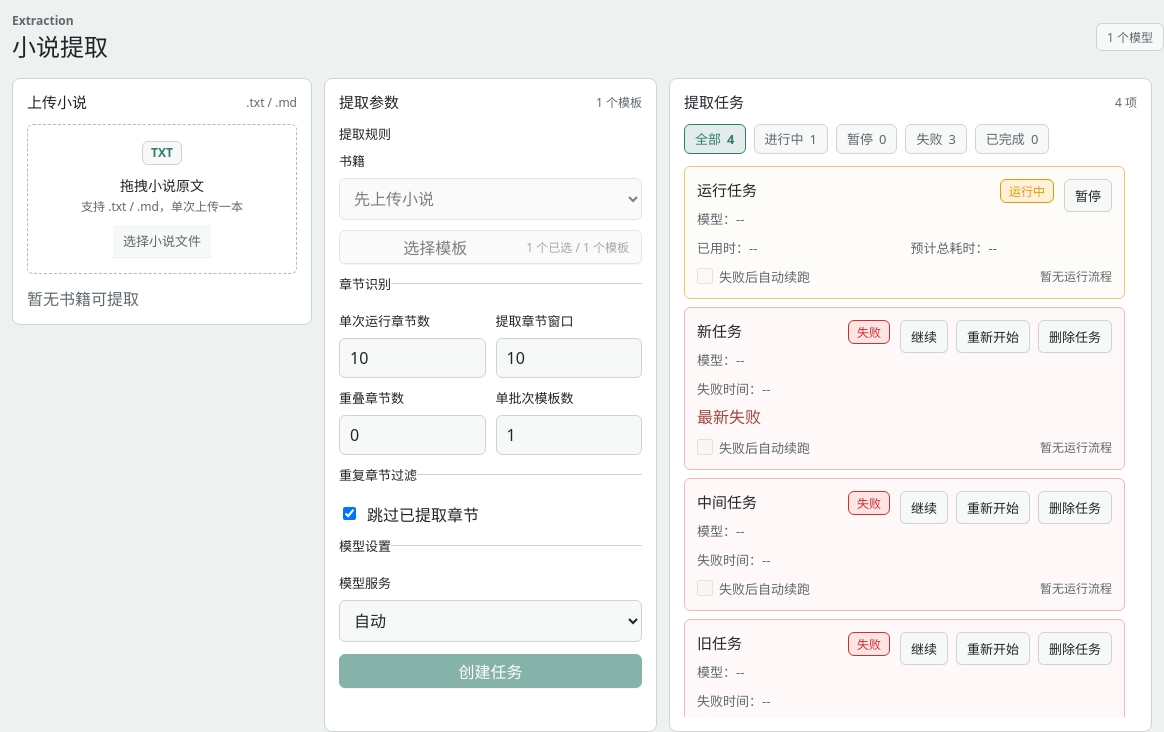
Test: ExtractionPage › orders task rows by creation time with the newest task first inside the active filter
Click the button "失败 3" at (936, 138), box x1=905 y1=124 x2=967 y2=154
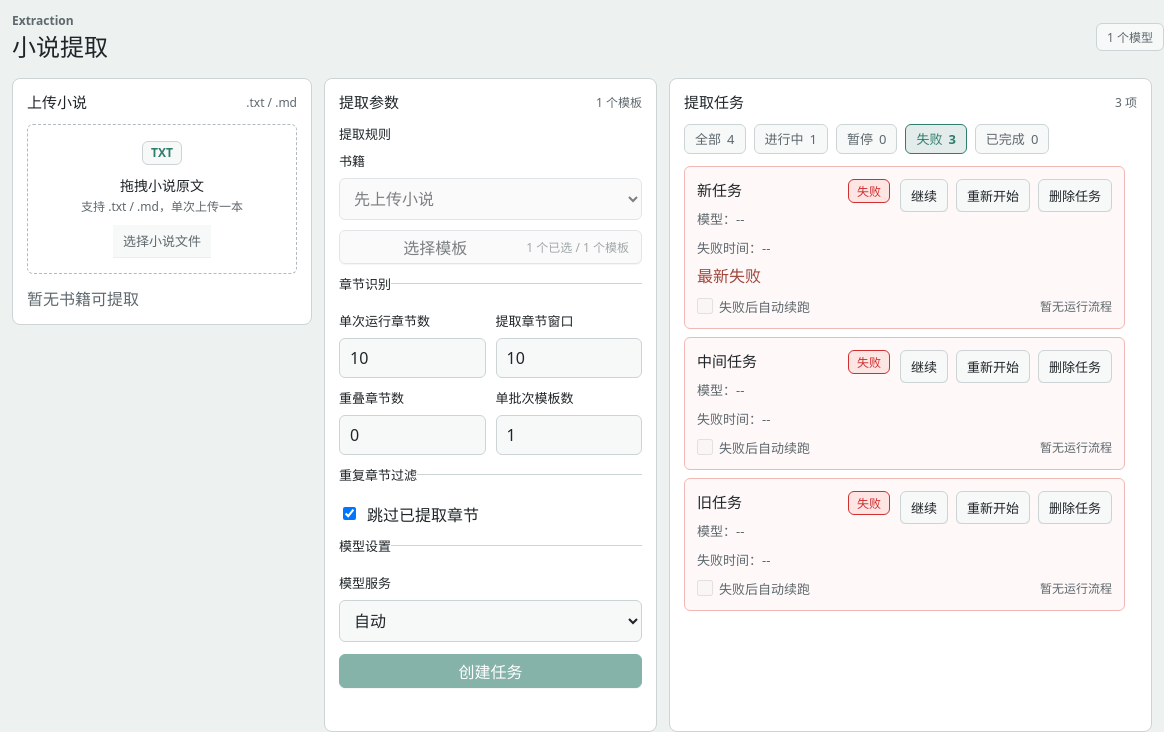
Check: the list item "新任务 失败 模型：-- 继续 重新开始 删除任务 失败时间：-- 最新失败 失败后自动续跑" is shown, box x1=684 y1=166 x2=1125 y2=328
Check: the heading "运行任务" is gone
